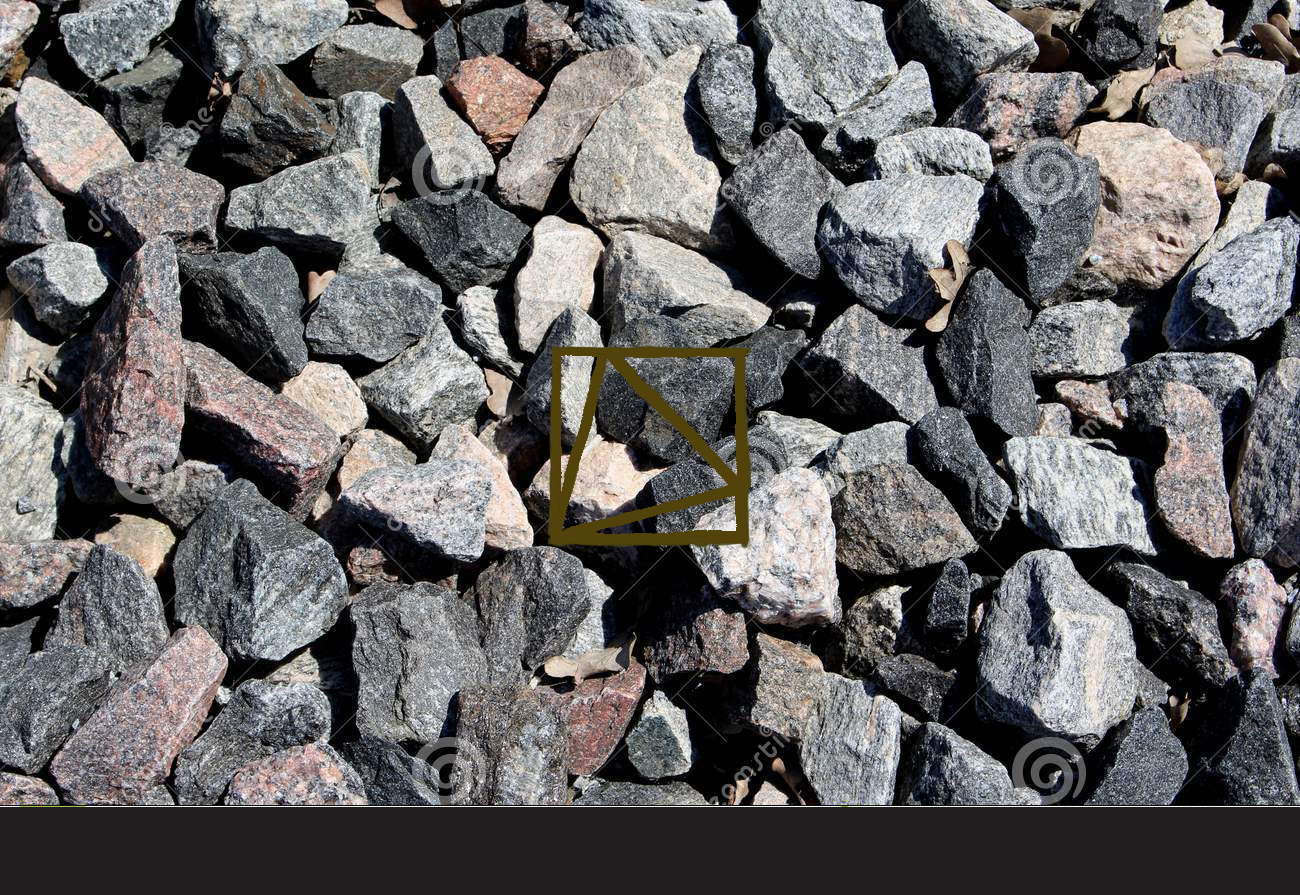marker: (544, 339, 753, 551)
